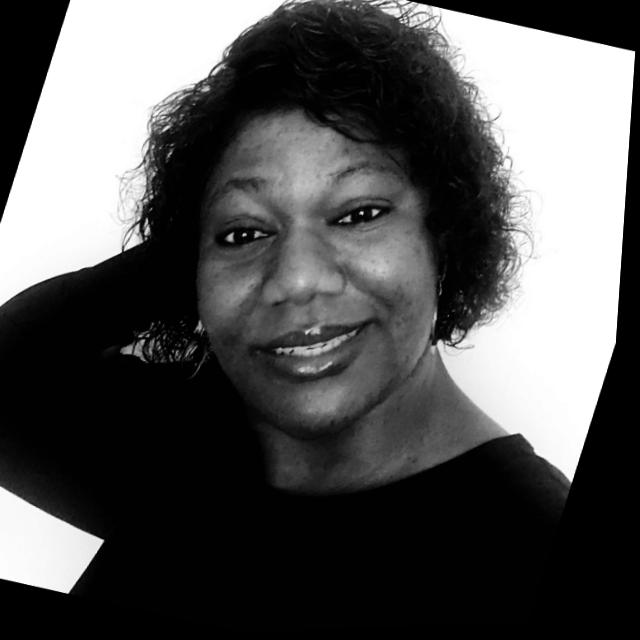happy: (108, 62, 516, 478)
